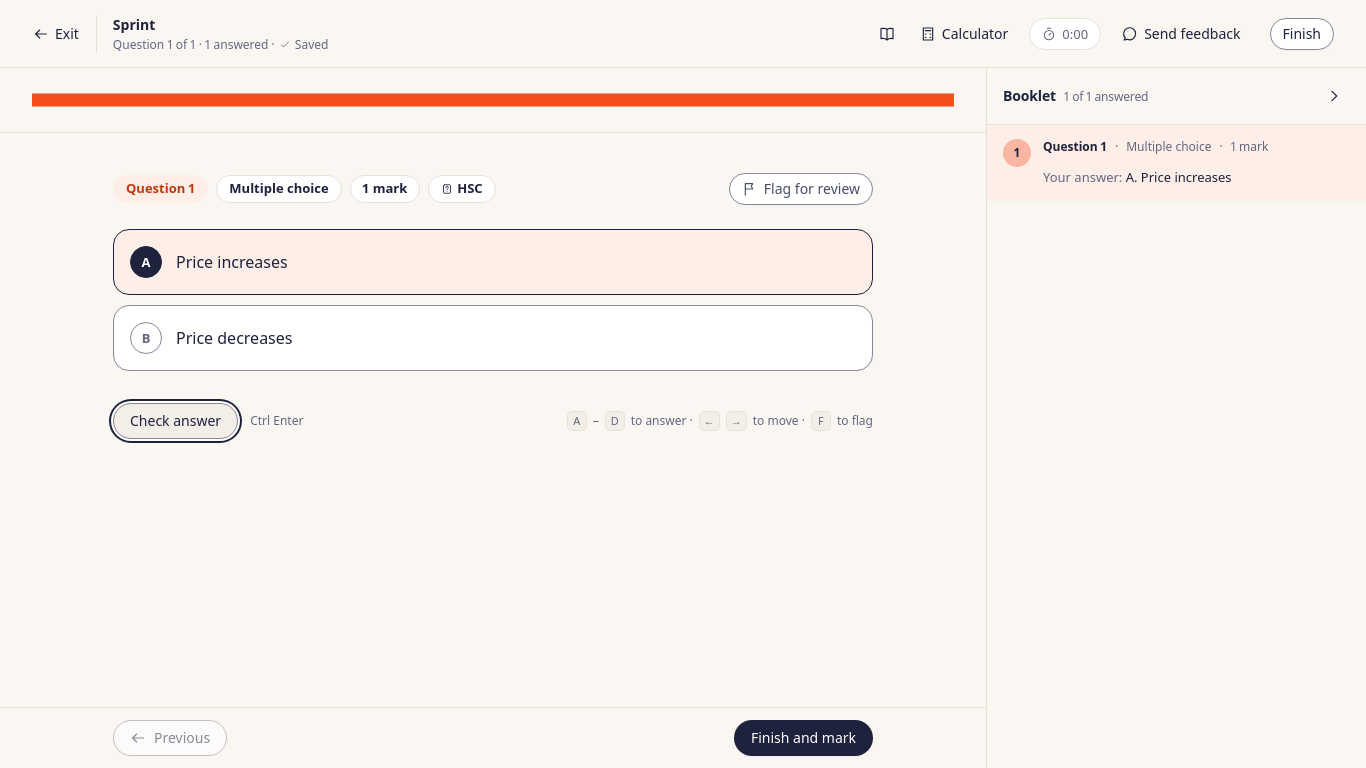
it: a failed manual finish keeps the saved answer editable and allows retry
Click the button "Finish and mark": x=803, y=738 [734,720,873,756]
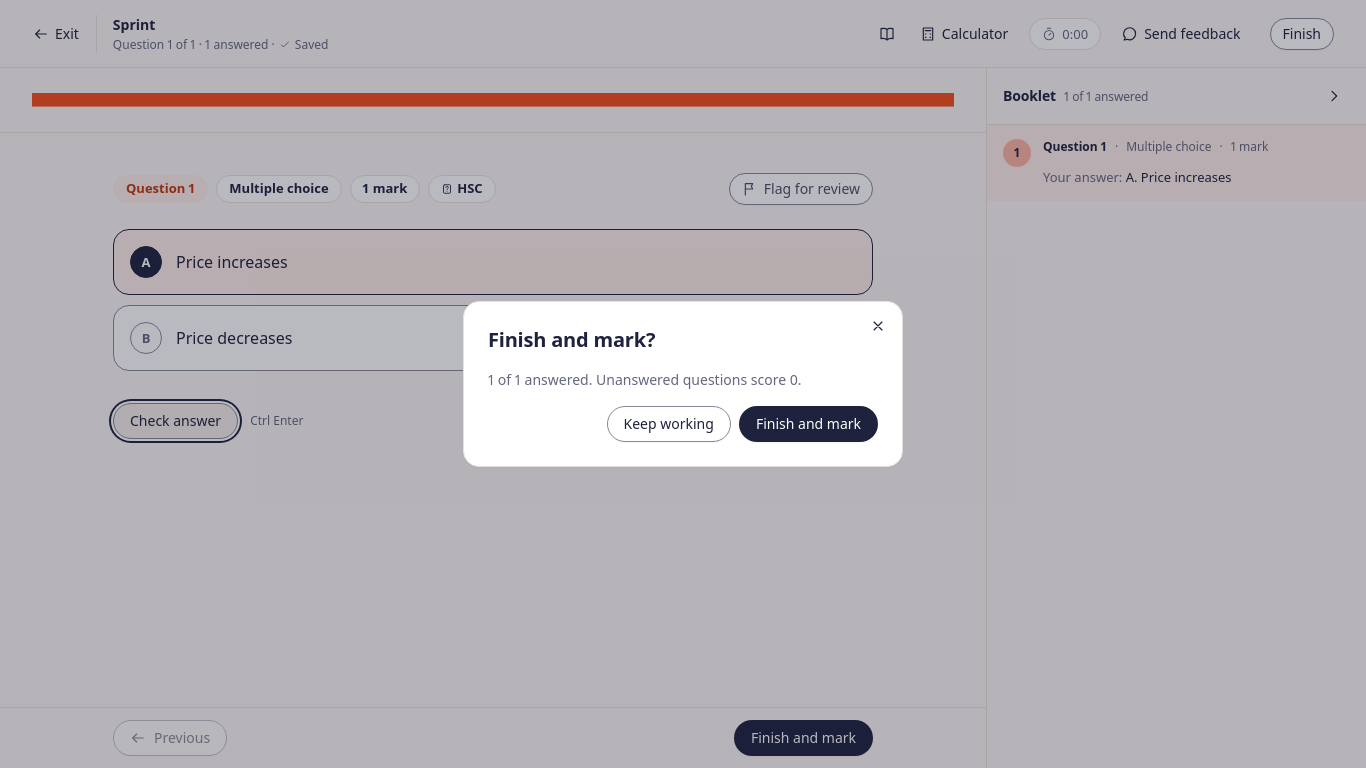
Click the button "Finish and mark": x=808, y=424 [739,406,878,442]
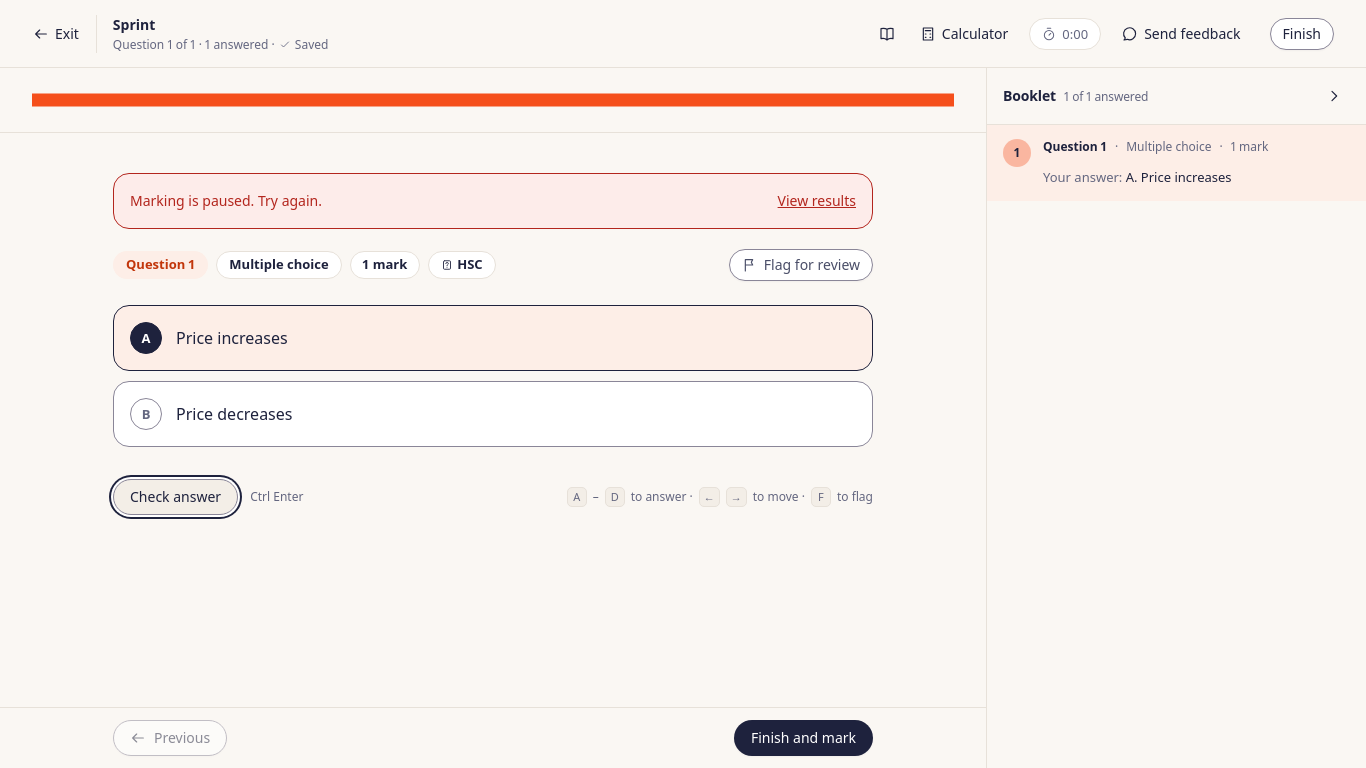
Expected: the radio button with aria-label "Option A:" is enabled, [113,305,873,371]
Now the message "Marking is paused. Try again. View results" is shown, box [113,173,873,229]
